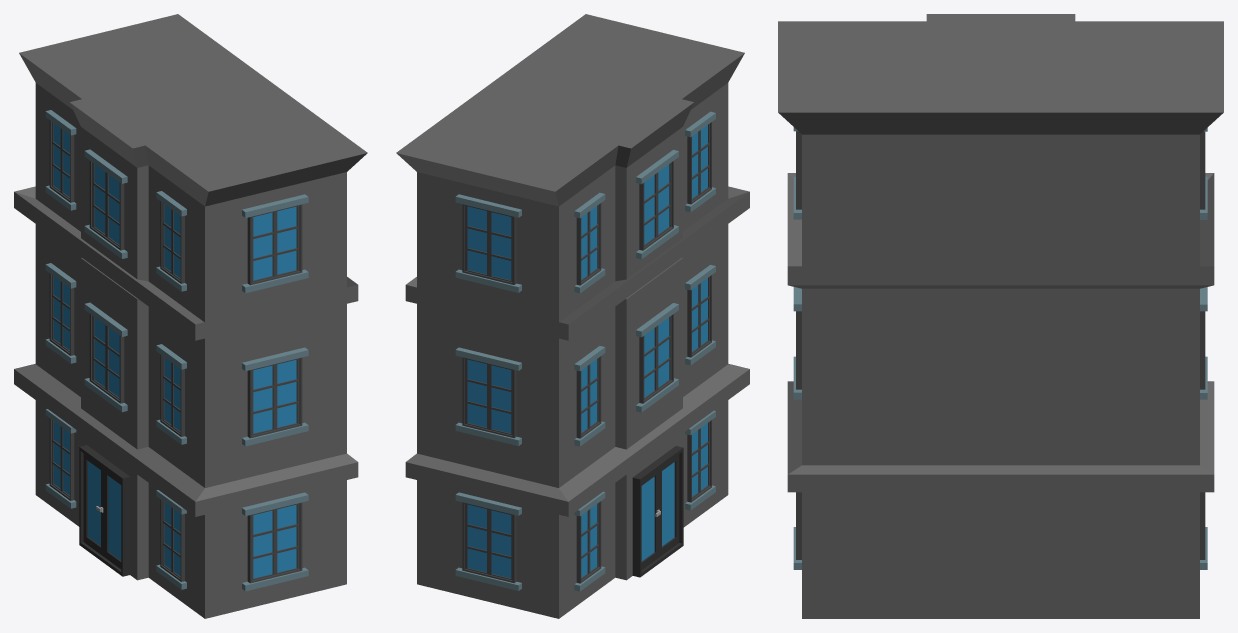
File: Building4.fbx
3 views of the same model, side by side, from view 1: azimuth 30°, elevation 25°; view 2: azimuth 150°, elevation 25°; view 3: azimuth 270°, elevation 25° (orthographic). The views are drawn at different scales.
Visible parts, largest first — view 1: Cube.233, Cube.267, Cube.265, Cube.256, Cube.262, Cube.250, Cube.253, Cube.235, Cube.238, Cube.260, Cube.244, Cube.247 (+9 smaller); view 2: Cube.233, Cube.267, Cube.273, Cube.276, Cube.270, Cube.253, Cube.250, Cube.235, Cube.238, Cube.260, Cube.241, Cube.244 (+9 smaller); view 3: Cube.233.
Boxes of the visible parts, box(x1,y1,x2,y2) form: Cube.233: box(14, 14, 367, 618); Cube.267: box(79, 445, 130, 576); Cube.265: box(247, 502, 302, 583); Cube.256: box(247, 204, 302, 285); Cube.262: box(247, 357, 302, 438); Cube.250: box(89, 161, 124, 250); Cube.253: box(89, 314, 124, 403); Cube.235: box(49, 273, 74, 355); Cube.238: box(49, 418, 74, 500); Cube.260: box(49, 120, 74, 202); Cube.244: box(160, 354, 184, 436); Cube.247: box(160, 499, 184, 581); Cube.233: box(396, 14, 749, 618); Cube.267: box(632, 446, 683, 577); Cube.273: box(462, 357, 516, 438); Cube.276: box(462, 502, 516, 583); Cube.270: box(462, 204, 516, 284); Cube.253: box(639, 314, 673, 403); Cube.250: box(639, 161, 673, 250); Cube.235: box(576, 356, 601, 438); Cube.238: box(576, 501, 601, 583); Cube.260: box(576, 203, 601, 285); Cube.241: box(687, 122, 711, 204); Cube.244: box(687, 275, 711, 357); Cube.233: box(778, 14, 1223, 618).
Bounding box in the file's own units: 1263 × 3065 × 2417.
